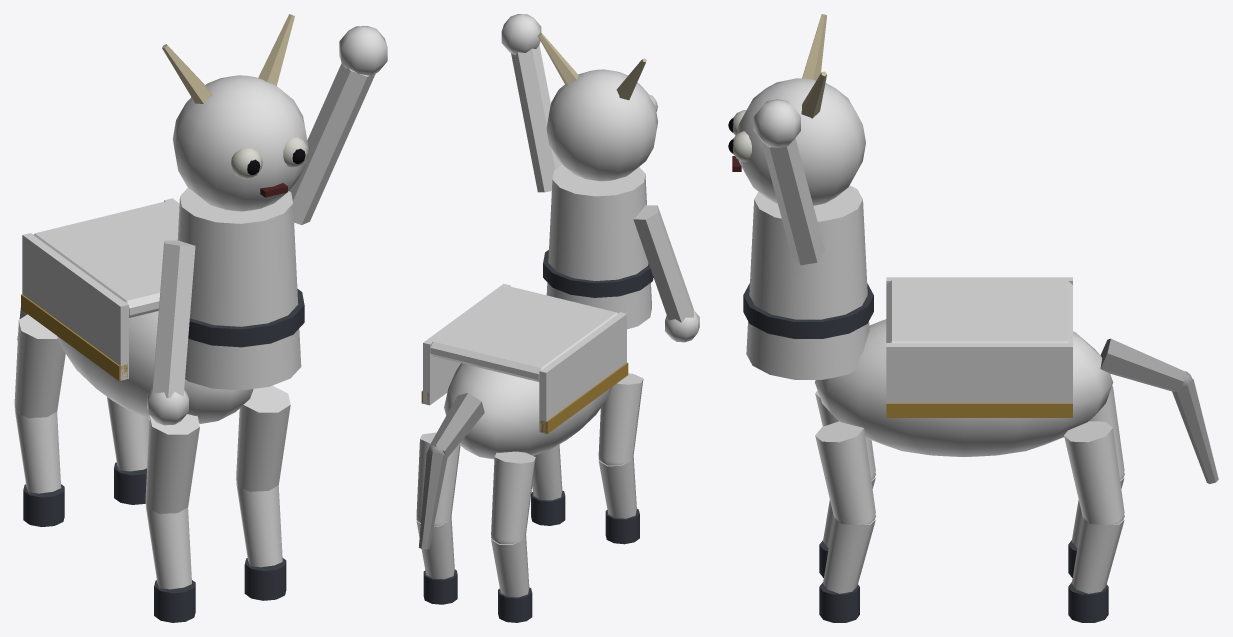
The model's file is alien_centaur.fbx.
The picture shows the model from 3 angles, left to right: view 1: azimuth 30°, elevation 25°; view 2: azimuth 150°, elevation 25°; view 3: azimuth 270°, elevation 25°; orthographic projection. The views are drawn at different scales.
Visible parts, largest first — view 1: alien_centaur, alien_centaur__gesture; view 2: alien_centaur, alien_centaur__gesture; view 3: alien_centaur, alien_centaur__gesture.
Part boxes in pixels (x1,y1,x2,y2): alien_centaur: [14, 14, 308, 622]; alien_centaur__gesture: [289, 26, 387, 224]; alien_centaur: [416, 33, 699, 622]; alien_centaur__gesture: [501, 14, 562, 192]; alien_centaur: [728, 14, 1218, 622]; alien_centaur__gesture: [753, 99, 825, 265].
Bounding box in the file's own units: 0.1665 × 0.3909 × 0.3155.
